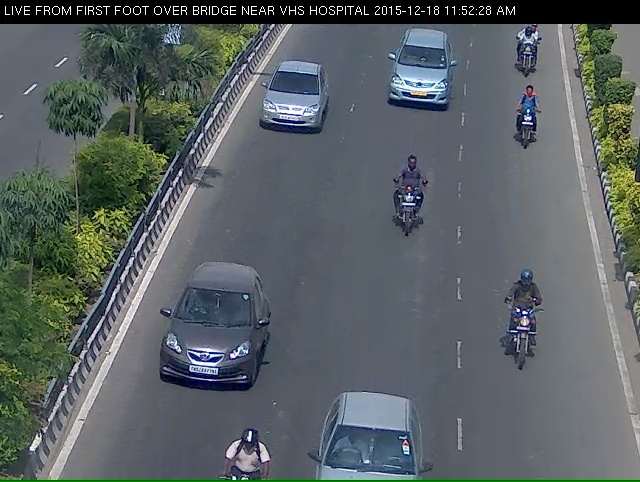Car: (148, 283, 263, 417), (382, 35, 454, 119), (308, 423, 422, 476), (261, 63, 326, 152)
Person: (384, 178, 434, 264), (508, 299, 549, 399), (510, 100, 542, 160), (514, 31, 540, 84)
